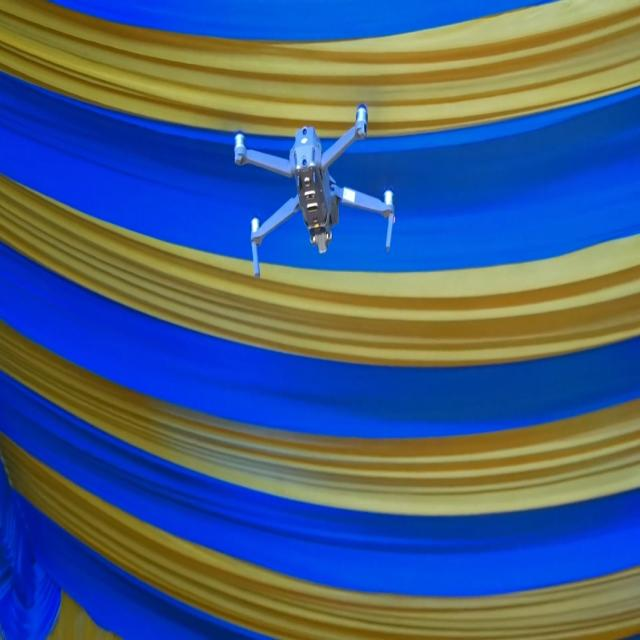Drone: (234, 104, 394, 279)
